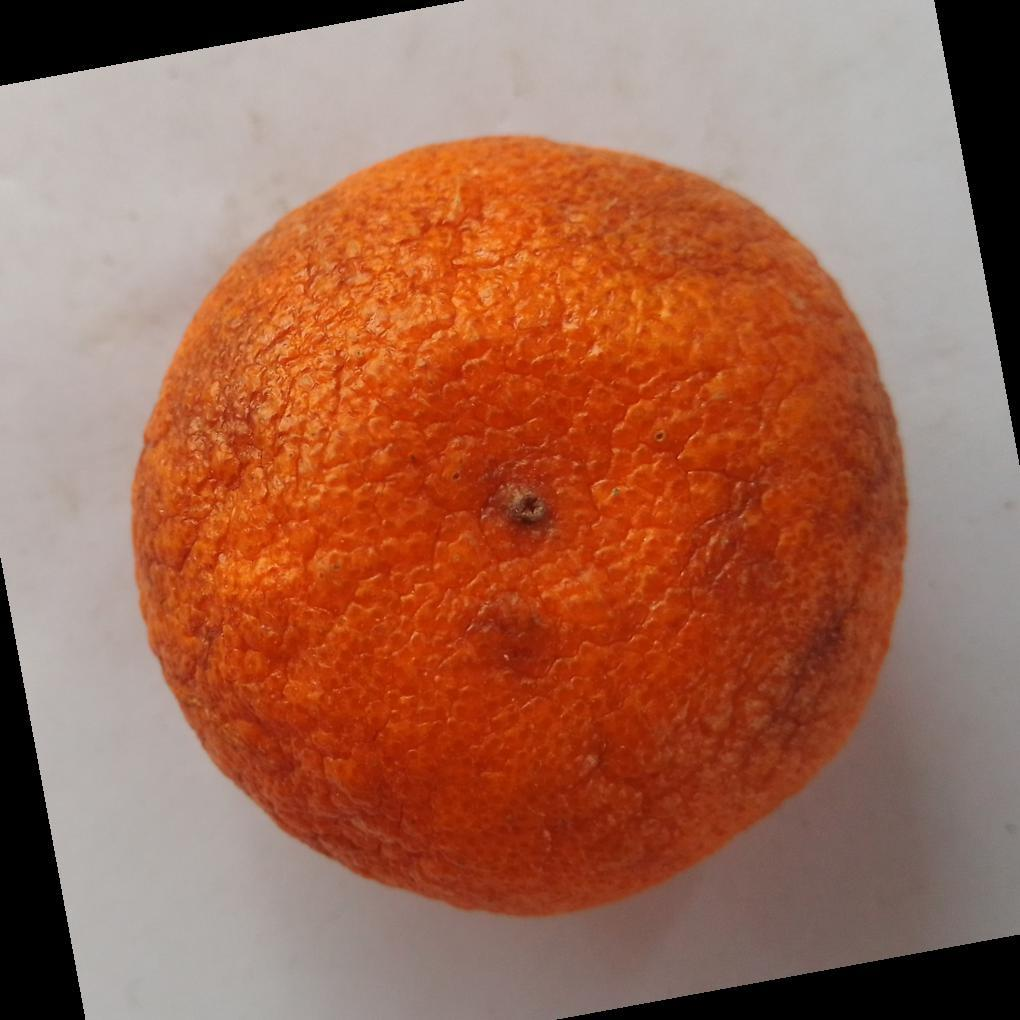FreshOrange: (127, 134, 912, 923)
